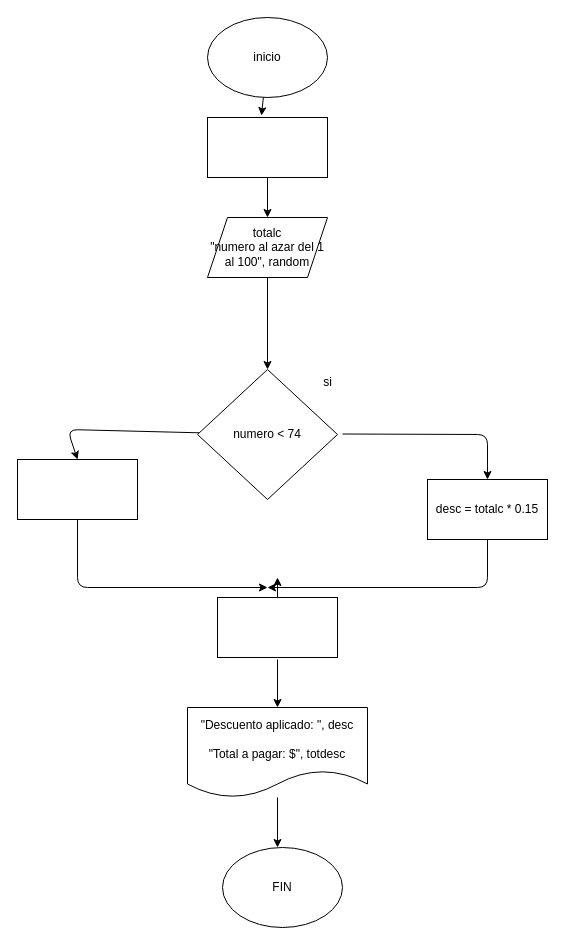
Some shapes in this 565 by 945 pixel diagram are drawn without their labels. Each missing label, with the centre of its shape:
desc = totalc * 0.20: (x=77, y=489)
float totalc float random: (x=267, y=147)
totdesc = totalc - desc: (x=277, y=627)
